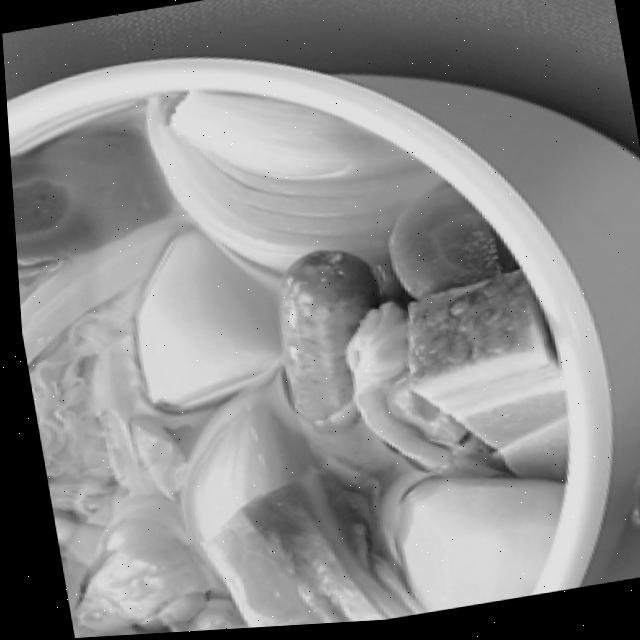汤锅炖物: (3, 34, 592, 640)
